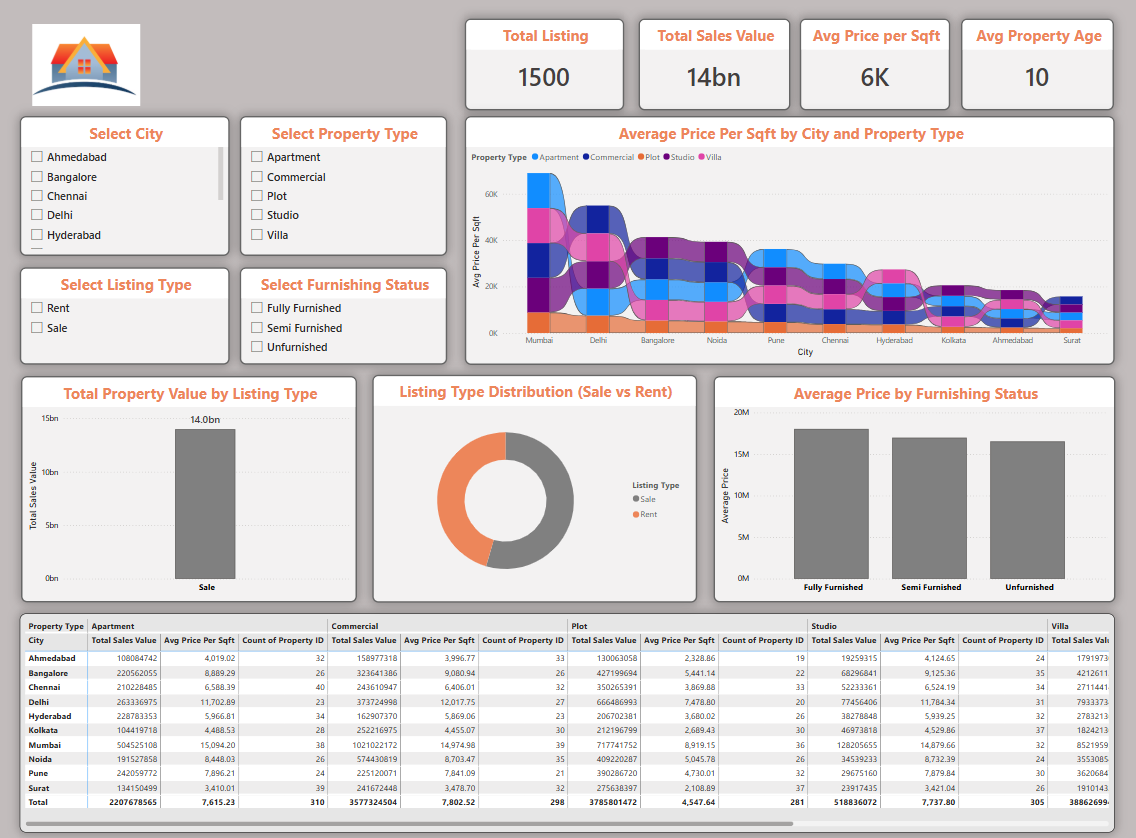

The page's visual inventory and layout, read from the dashboard file:
{"tool":"powerbi","page":{"name":"Page 1","canvas":[1850,1400],"ordinal":0},"visuals":[{"type":"card","title":"Total Listing","fields":{"Values":["fact_Property.Total Listings"]},"box":[744,48,272,106],"z":0},{"type":"card","title":"Total Sales Value","fields":{"Values":["fact_Property.Total Sales Value"]},"box":[1032,48,246,106],"z":1000},{"type":"card","title":"Avg Property Age","fields":{"Values":["fact_Property.Avg Property Age"]},"box":[1553.3,45,245,106.7],"z":2000},{"type":"card","title":"Avg Price per Sqft","fields":{"Values":["fact_Property.Avg Price Per Sqft"]},"box":[1292,46,242,106],"z":3000},{"type":"slicer","title":"Select City","fields":{"Values":["dim_Location.City"]},"box":[46.7,191.7,335,225],"z":4000},{"type":"slicer","title":"Listing Type","fields":{"Values":["dim_PropertyType.Listing Type"]},"box":[46.7,433.3,335,138.3],"z":5000},{"type":"slicer","title":"Furnishing Status","fields":{"Values":["dim_PropertyType.Furnishing Status"]},"box":[398.3,416.7,331.7,155],"z":6000},{"type":"clusteredColumnChart","title":"Total Property Value by Listing Type","fields":{"Y":["fact_Property.Total Sales Value"],"Category":["fact_Property.Listing Type"]},"box":[46.7,608.3,538.3,341.7],"z":7000},{"type":"clusteredColumnChart","title":"Top Cities by Total Property Value","fields":{"Category":["dim_Location.City"],"Y":["fact_Property.Total Sales Value"]},"box":[1163.3,608.3,635,341.7],"z":8000},{"type":"slicer","title":"Select Property Type","fields":{"Values":["dim_PropertyType.Property Type"]},"box":[398.3,191.7,331.7,211.7],"z":9000},{"type":"pivotTable","fields":{"Rows":["dim_Location.City"],"Values":["fact_Property.Total Sales Value","fact_Property.Avg Price Per Sqft","CountNonNull(fact_Property.Property ID)"],"Columns":["dim_PropertyType.Property Type"]},"box":[46.7,988.3,1751.7,350],"z":10000},{"type":"lineChart","title":"Average Price Per Sqft by City and Property Type","fields":{"Category":["dim_Location.City"],"Y":["fact_Property.Avg Price Per Sqft"],"Series":["dim_PropertyType.Property Type"]},"box":[758.3,191.7,1040,380],"z":11000},{"type":"donutChart","title":"Listing Type Distribution (Sale vs Rent)","fields":{"Category":["fact_Property.Listing Type"],"Y":["CountNonNull(fact_Property.Property ID)"]},"box":[620,608.3,518.3,341.7],"z":12000},{"type":"image","box":[30,26,270,144],"z":13000}]}

Visuals, with their boxes in screenshot pixels (x1, y1, x2, y2), scaled from the page's 1850x1400 canvas onto the 1136x838 screenshot:
"Total Listing" card: rect(457, 29, 624, 92)
"Total Sales Value" card: rect(634, 29, 785, 92)
"Avg Property Age" card: rect(954, 27, 1104, 91)
"Avg Price per Sqft" card: rect(793, 28, 942, 91)
"Select City" slicer: rect(29, 115, 234, 249)
"Listing Type" slicer: rect(29, 259, 234, 342)
"Furnishing Status" slicer: rect(245, 249, 448, 342)
"Total Property Value by Listing Type" clusteredColumnChart: rect(29, 364, 359, 569)
"Top Cities by Total Property Value" clusteredColumnChart: rect(714, 364, 1104, 569)
"Select Property Type" slicer: rect(245, 115, 448, 241)
pivotTable - dim_Location.City x fact_Property.Total Sales Value: rect(29, 592, 1104, 801)
"Average Price Per Sqft by City and Property Type" lineChart: rect(466, 115, 1104, 342)
"Listing Type Distribution (Sale vs Rent)" donutChart: rect(381, 364, 699, 569)
image: rect(18, 16, 184, 102)
